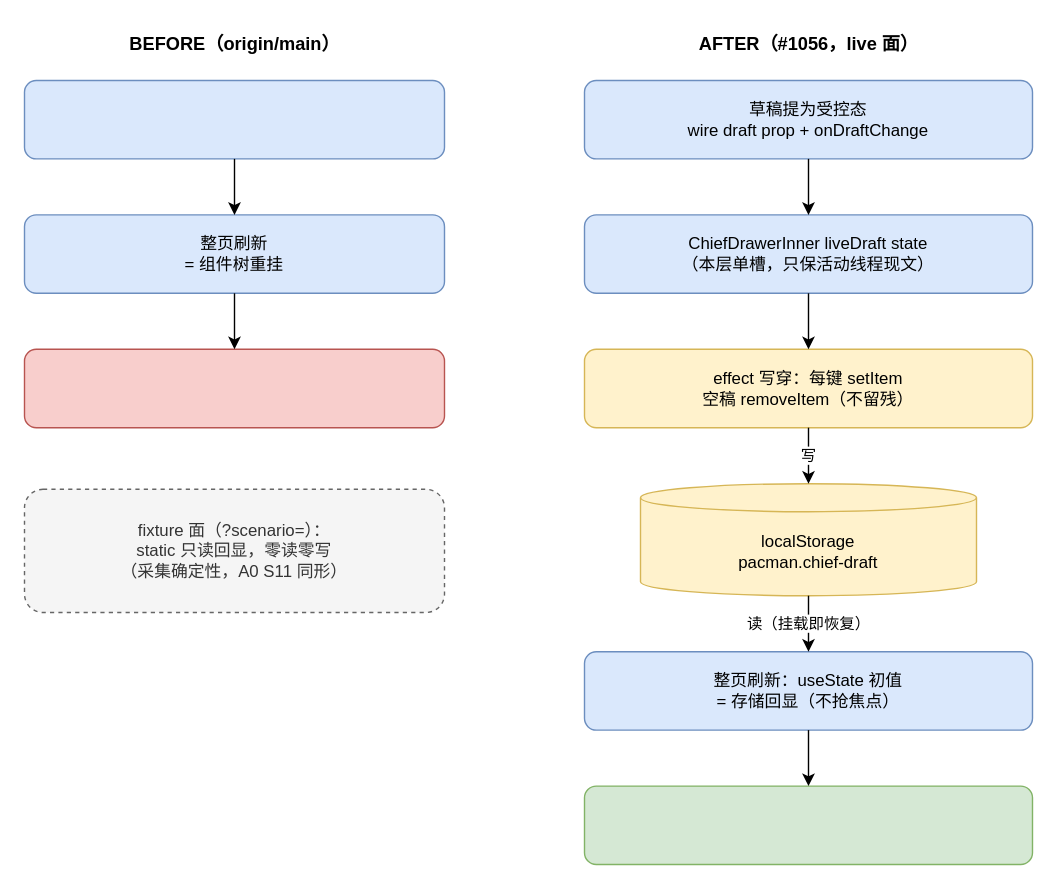
The diagram is 1057 pixels wide and 889 high, and some of its shapes have lost their labels. The centre of each missing label's shape, as x and y in pixels:
"✓ 草稿逐字回显" goes at (807,824).
"✗ 草稿丢" goes at (233,388).
"草稿 = wire 内部 useState （内存态单槽）" goes at (233,119).
